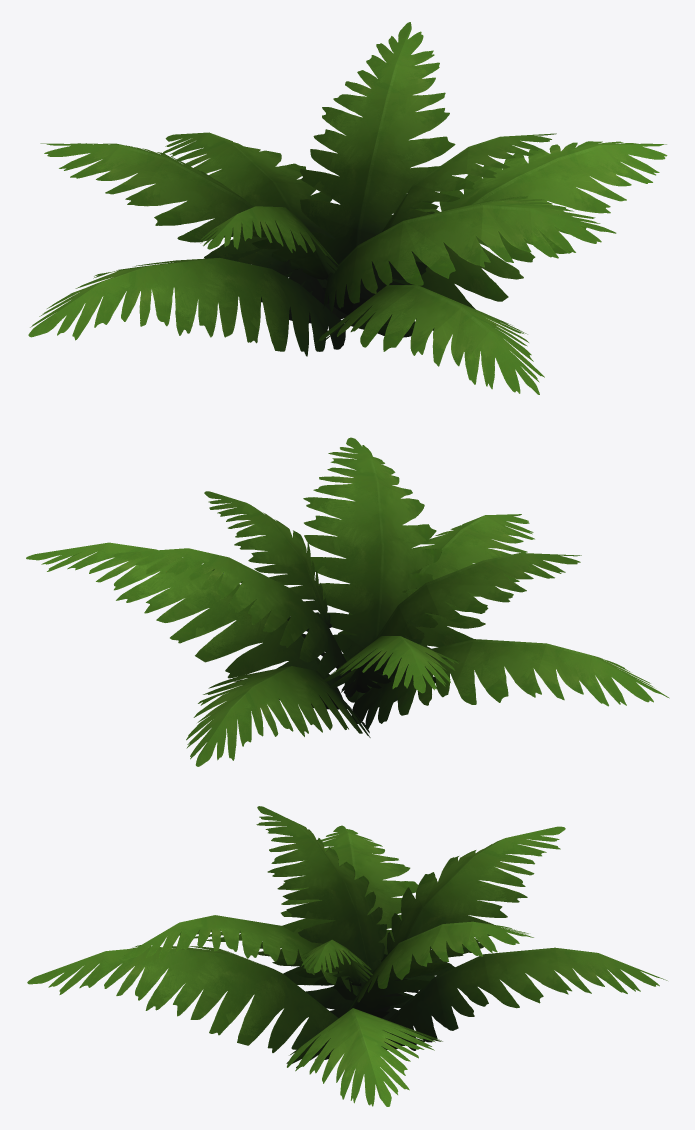
Rendered from Fern_1.glb.
3 views of the same model, one above another, from view 1: azimuth 30°, elevation 25°; view 2: azimuth 150°, elevation 25°; view 3: azimuth 270°, elevation 25° (orthographic). The views are drawn at different scales.
Bounding box in the file's own units: 2.83 × 0.8402 × 2.65.
Materials: 1 (1 with a texture image).
